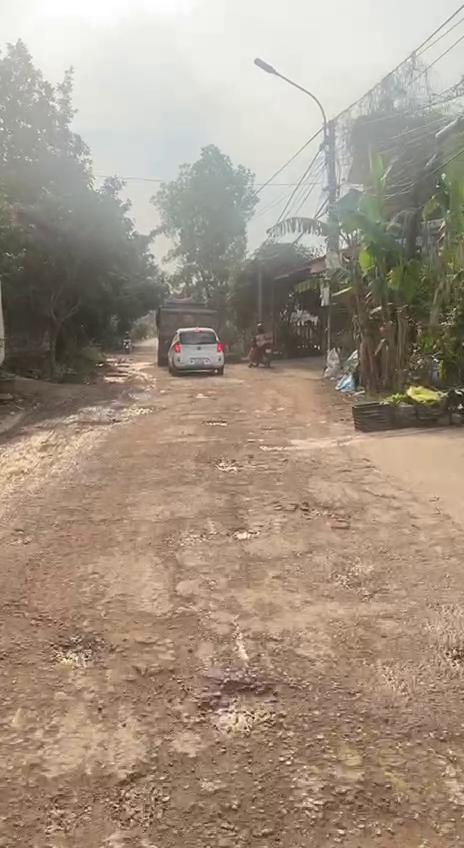pothole: (192, 670, 280, 737)
